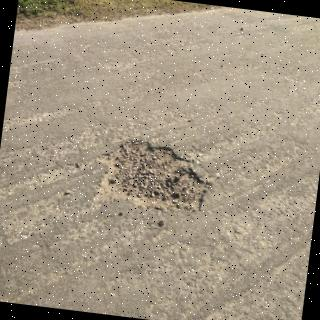pothole: (97, 140, 211, 212)
